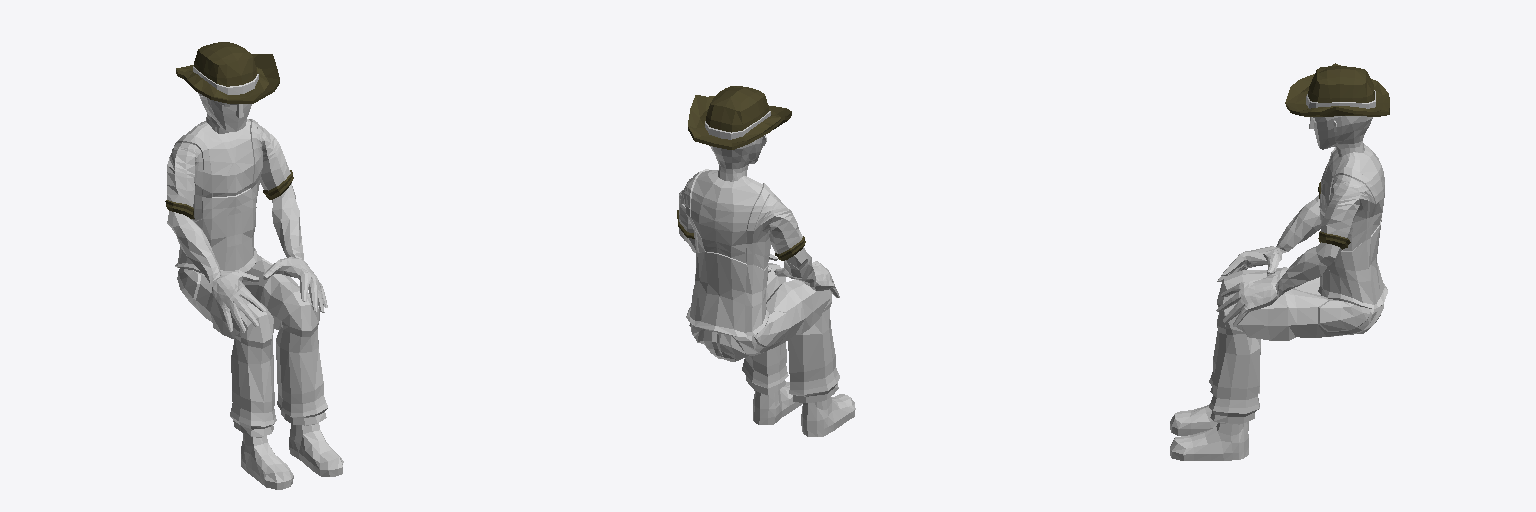
File: m_farmer.obj
3 renders of one model, left to right at view 1: azimuth 30°, elevation 25°; view 2: azimuth 150°, elevation 25°; view 3: azimuth 270°, elevation 25°, orthographic.
Visible parts, largest first — view 1: Farmer_Body, Farmer_Pants, Farmer_Head, Farmer_Feet; view 2: Farmer_Body, Farmer_Pants, Farmer_Head, Farmer_Feet; view 3: Farmer_Body, Farmer_Pants, Farmer_Head, Farmer_Feet.
Part boxes in pixels (left/top/right/bottom): Farmer_Body: left=165, top=119, right=327, bottom=332; Farmer_Pants: left=177, top=254, right=327, bottom=437; Farmer_Head: left=176, top=42, right=279, bottom=133; Farmer_Feet: left=241, top=423, right=343, bottom=489; Farmer_Body: left=677, top=169, right=839, bottom=336; Farmer_Pants: left=689, top=263, right=839, bottom=402; Farmer_Head: left=688, top=86, right=791, bottom=181; Farmer_Feet: left=753, top=382, right=855, bottom=436; Farmer_Body: left=1216, top=144, right=1387, bottom=326; Farmer_Pants: left=1209, top=267, right=1383, bottom=424; Farmer_Head: left=1285, top=63, right=1389, bottom=156; Farmer_Feet: left=1170, top=404, right=1248, bottom=460.
Bounding box in the file's own units: 0.5045 × 1.42 × 0.76.